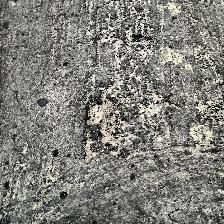pothole: (82, 96, 128, 156), (132, 34, 150, 44)
